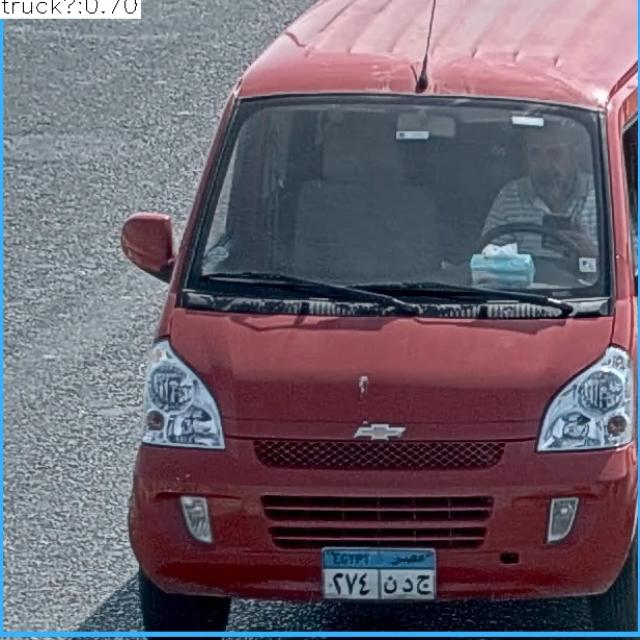windshield: (184, 100, 604, 307)
